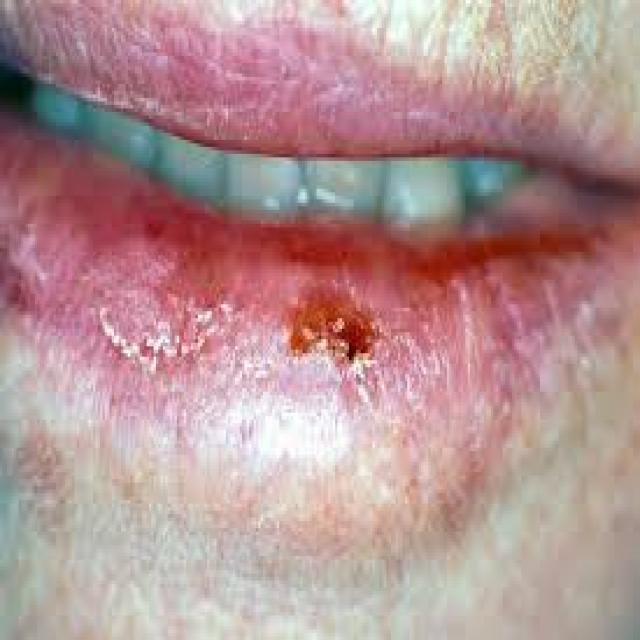normal_tongue: (25, 67, 578, 523)
